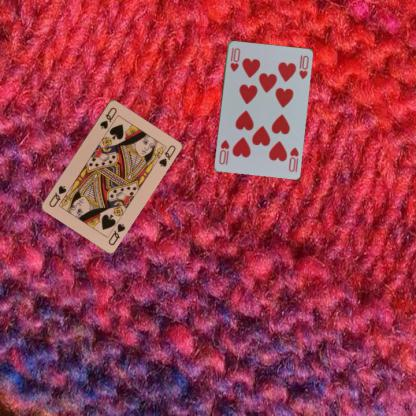10h: (228, 44, 241, 73), (286, 144, 299, 173)
Qs: (106, 220, 127, 246), (97, 105, 118, 130)
